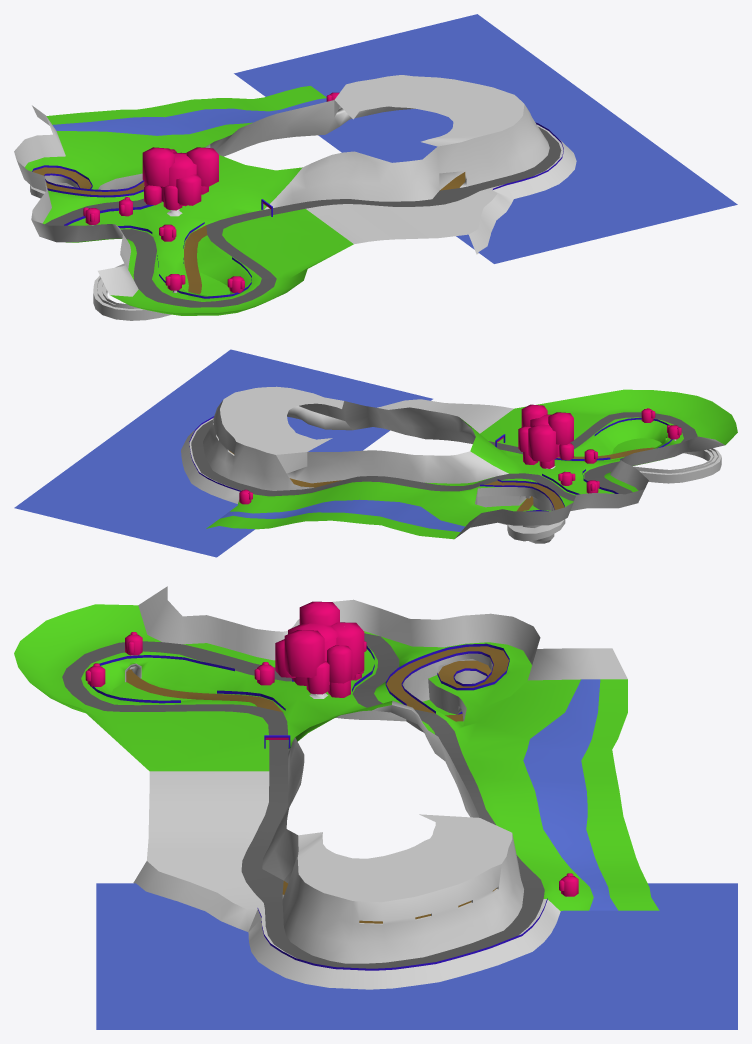
File: track.dae
3 views of the same model, one above another, from view 1: azimuth 30°, elevation 25°; view 2: azimuth 150°, elevation 25°; view 3: azimuth 270°, elevation 25° (orthographic). The views are drawn at different scales.
Visible parts, largest first — view 1: Plane; view 2: Plane; view 3: Plane.
Boxes of the visible parts, x1,y1,x2,y2 form: Plane: (14,14,737,320); Plane: (14,349,737,557); Plane: (14,586,737,1029).
Size of the model in its own units: 183 by 152 by 30.72.
